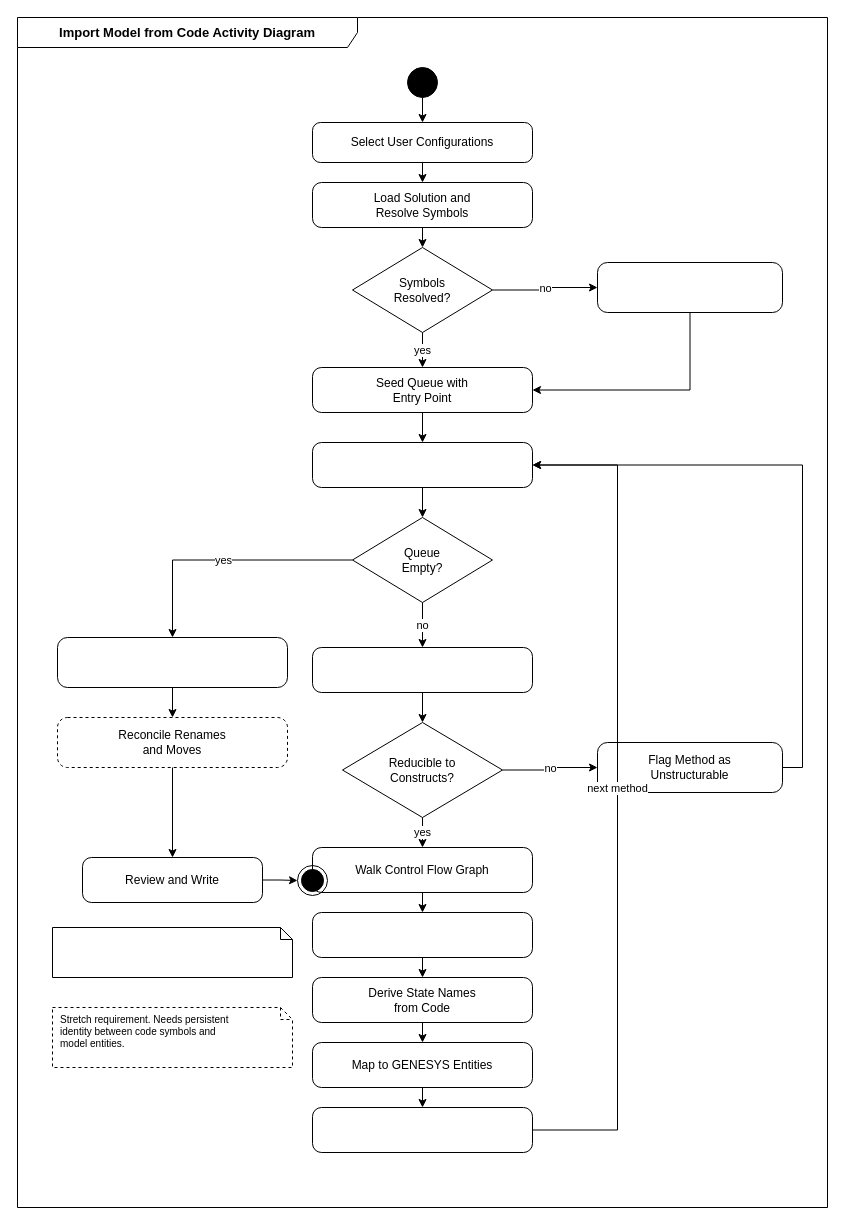
This 845x1225 diagram has some shape labels left out. Here are the shapes that lost their labels. From the top down, the centre of each, then its label:
At point (689, 287): "Record Unresolved Symbols".
At point (422, 465): "Take Next Method from Queue".
At point (172, 662): "Report Unused Variables, Methods and Classes".
At point (422, 669): "Build Control Flow Graph".
At point (172, 952): "Call behaviour action. Shared with both export translations.".
At point (422, 935): "Apply Abstraction Rules".
At point (422, 1129): "Enqueue Called Methods within Depth Limit".
